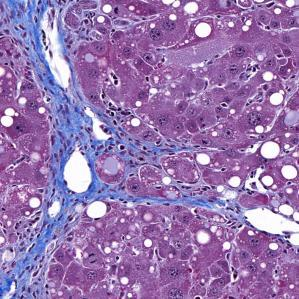fibrosis: (43, 102, 164, 206)
